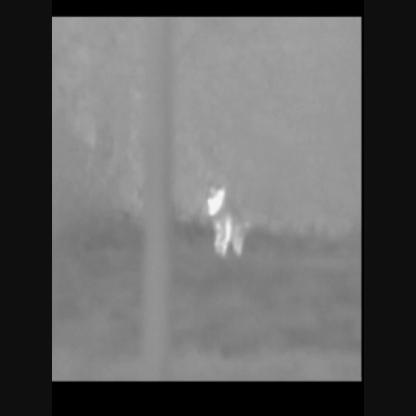rehkitze: (206, 182, 248, 261)
